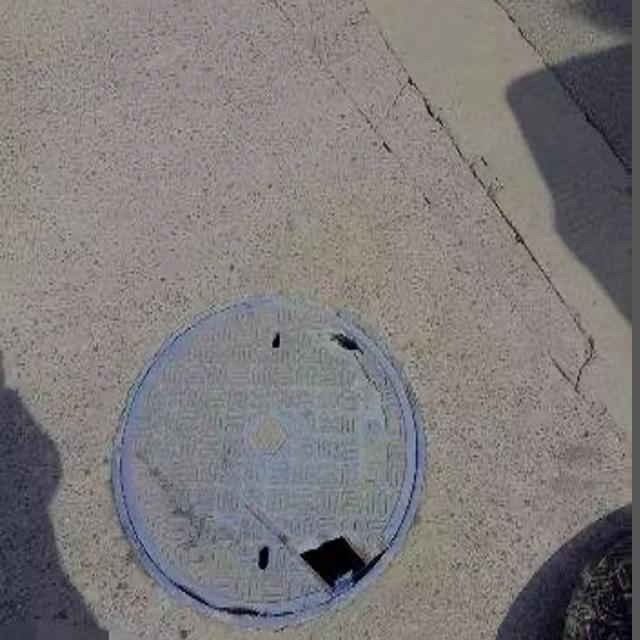broke: (112, 293, 419, 623)
